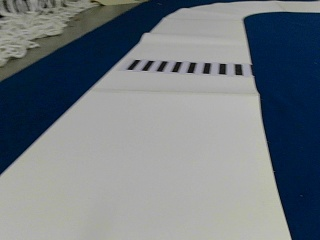crosswalk: (129, 58, 245, 76)
